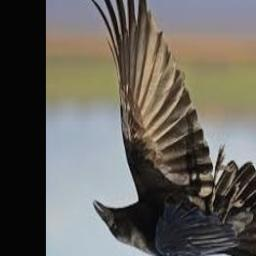Crow: (87, 0, 256, 256)
